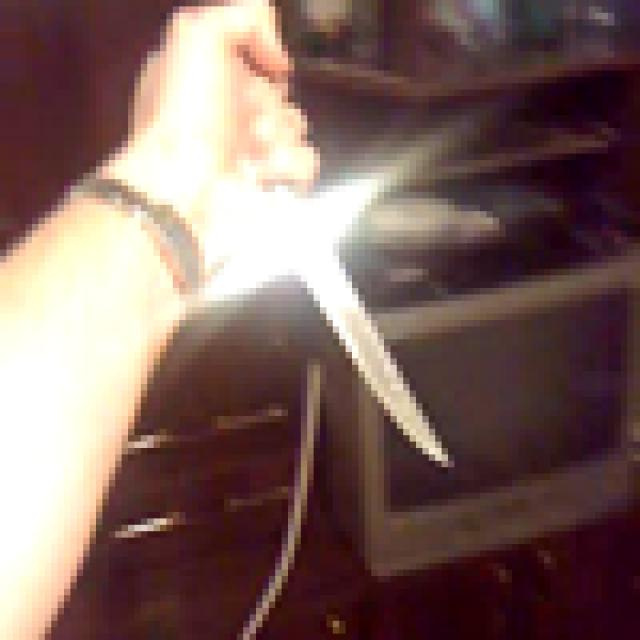Knife: (158, 13, 446, 480)
